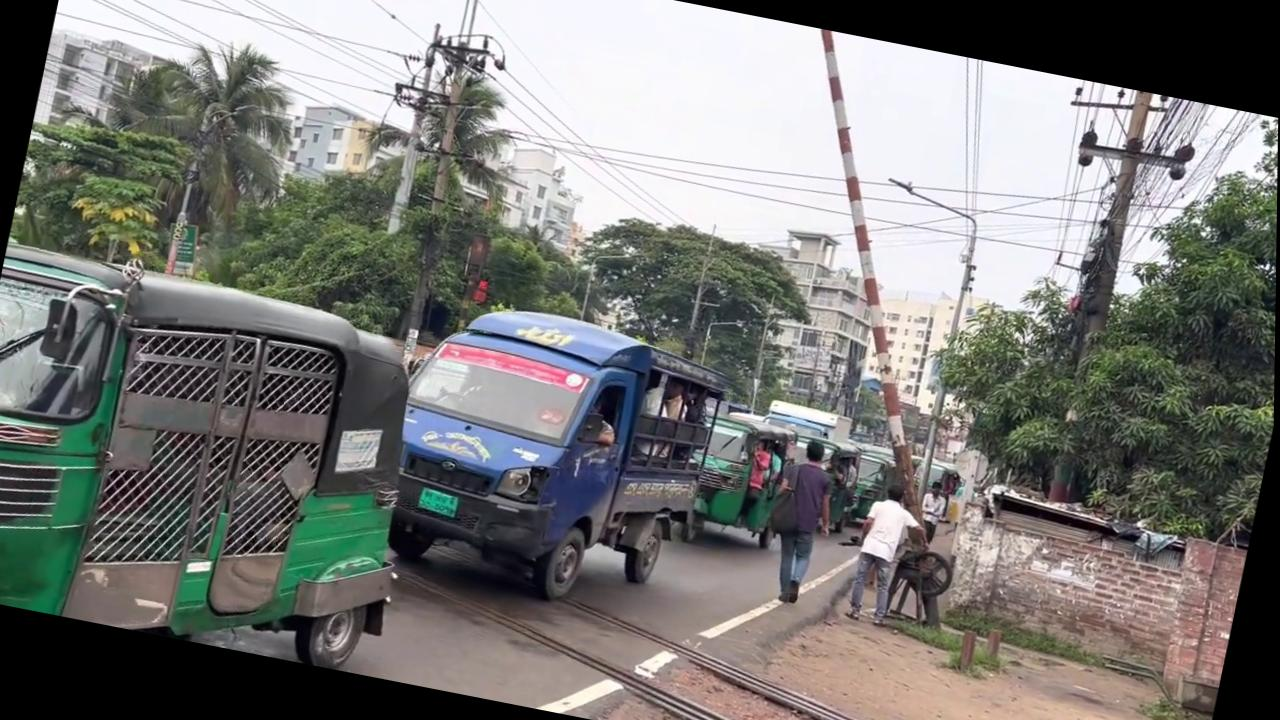Fence: (757, 434, 848, 607), (843, 478, 941, 632)
Garbage: (725, 28, 1022, 524), (1040, 87, 1157, 507)
Motorcycle: (360, 547, 1120, 720)
Railroad-crossing: (76, 16, 311, 288)
Rickshaw: (0, 234, 452, 675), (369, 286, 740, 625)
Sidewalk: (931, 483, 1250, 710)
